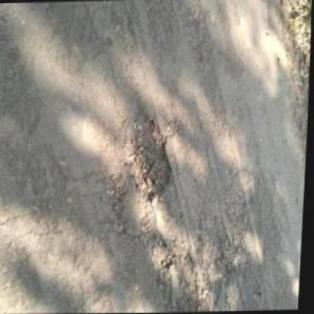Hueco: (126, 111, 176, 202)
